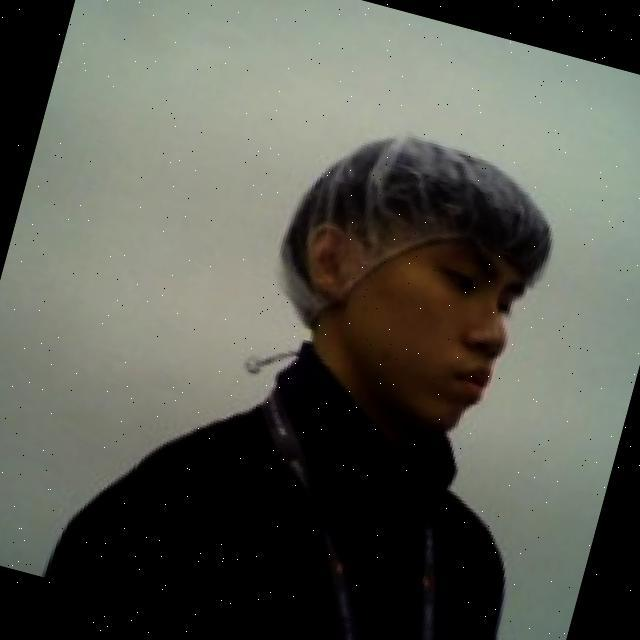gloves: (244, 77, 582, 386)
no_hairnet: (257, 238, 526, 460)
